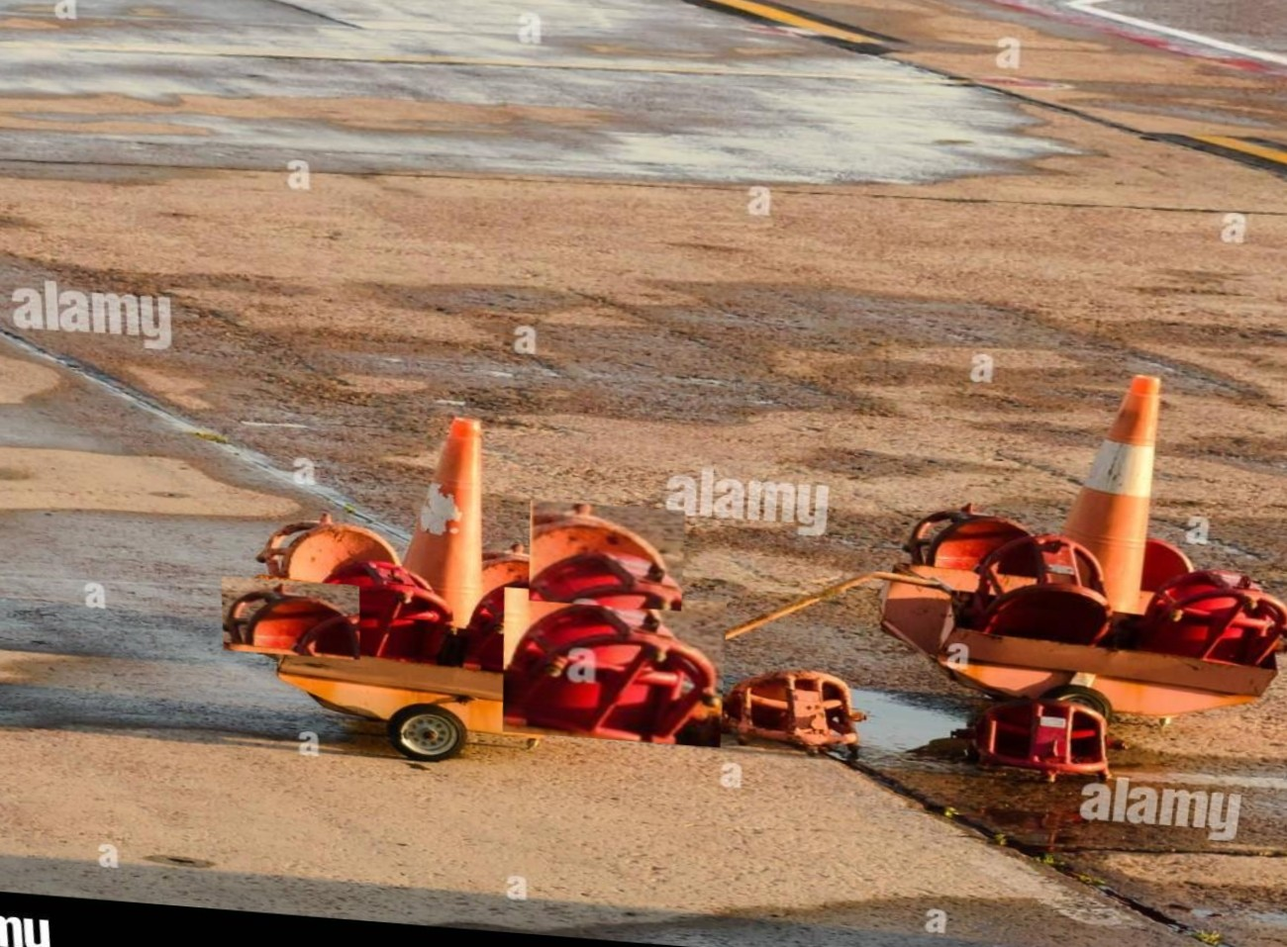chock: (493, 585, 732, 748), (457, 567, 631, 687), (693, 659, 884, 763), (962, 528, 1126, 648), (303, 550, 465, 667), (522, 499, 689, 612), (1141, 567, 1287, 672), (958, 690, 1120, 781), (252, 506, 407, 591), (215, 575, 366, 661), (903, 495, 1051, 582), (475, 542, 595, 623), (1140, 529, 1209, 593)
wheel: (379, 700, 474, 767), (1029, 680, 1122, 739)
